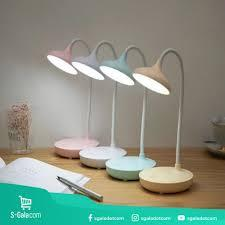Lamp: (138, 42, 196, 198), (41, 31, 100, 164), (103, 43, 157, 183), (72, 38, 129, 170)
